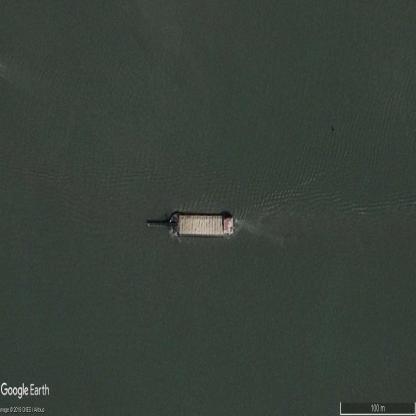ship: (147, 212, 236, 241)
